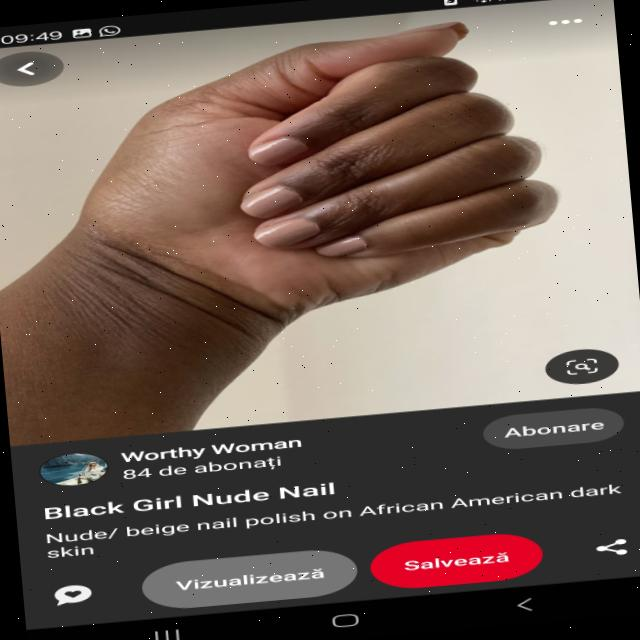hands: (41, 1, 594, 378)
